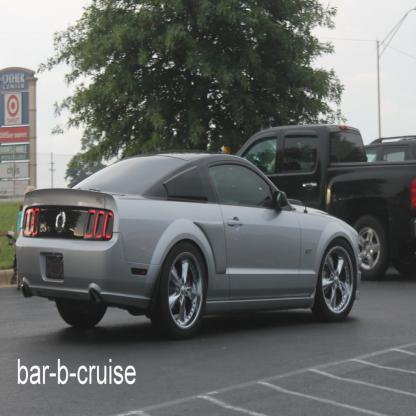Car: (13, 152, 379, 341), (364, 135, 416, 160)
